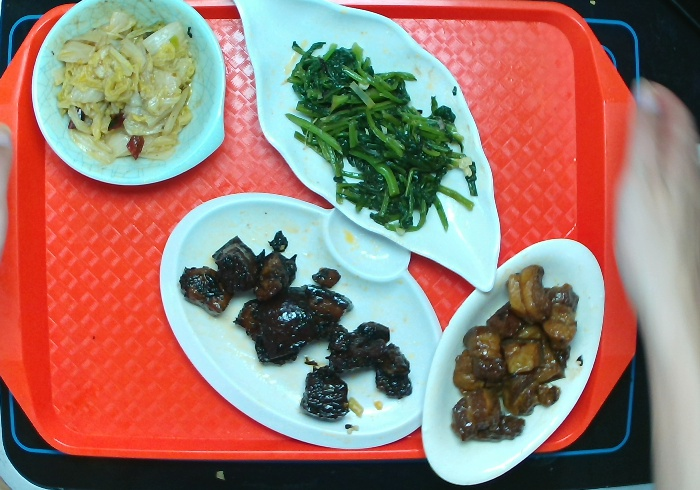RJxy-Bai_Se_Tuo_Yuan: (419, 236, 607, 488)
RJxy-Shu_Ye_Pan: (232, 4, 510, 300)
RJxy-Xiao_Jiao_Yuan_Wan: (32, 3, 229, 188)
RJxy-Zhan_Liao_Pan: (153, 188, 450, 456)
